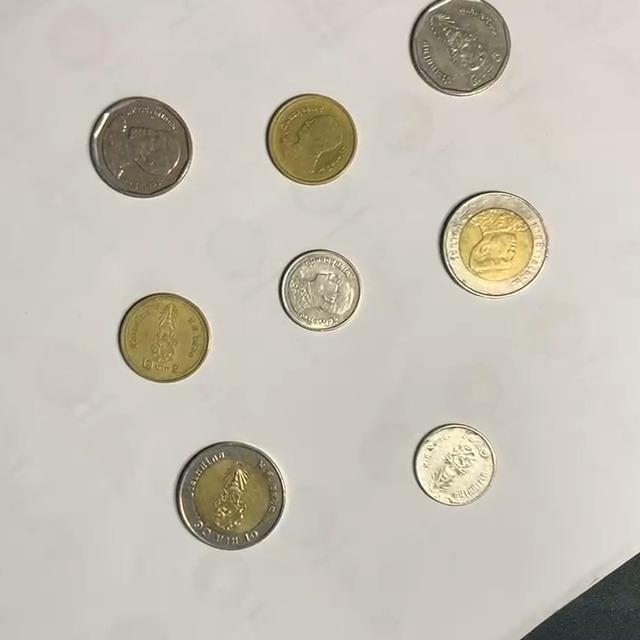1-baht: (414, 423, 501, 507), (279, 249, 364, 332)
10-baht: (176, 442, 287, 551), (441, 192, 549, 298)
2-baht: (266, 93, 359, 185), (119, 293, 211, 385)
5-baht: (89, 96, 193, 198), (409, 0, 513, 97)
